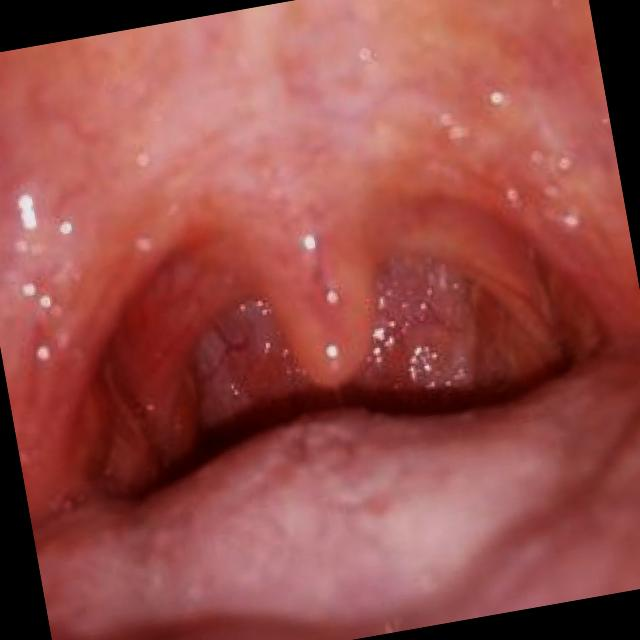Non Pharyngitis: (348, 139, 622, 403), (0, 181, 147, 496)
